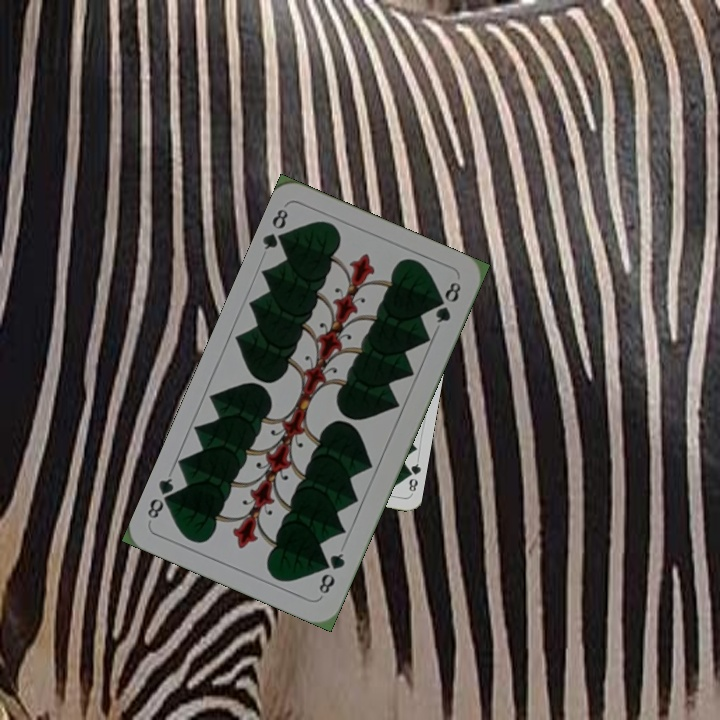G8: (259, 204, 293, 253), (314, 549, 348, 597), (401, 456, 423, 496)
